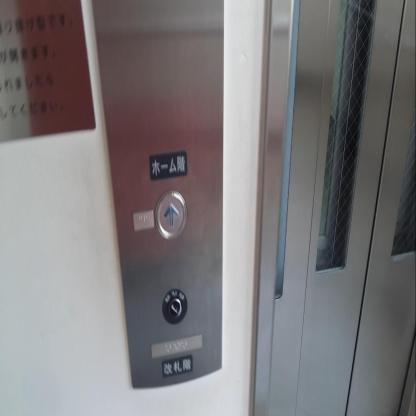keyhole: (162, 288, 186, 327)
up: (154, 186, 188, 244)
